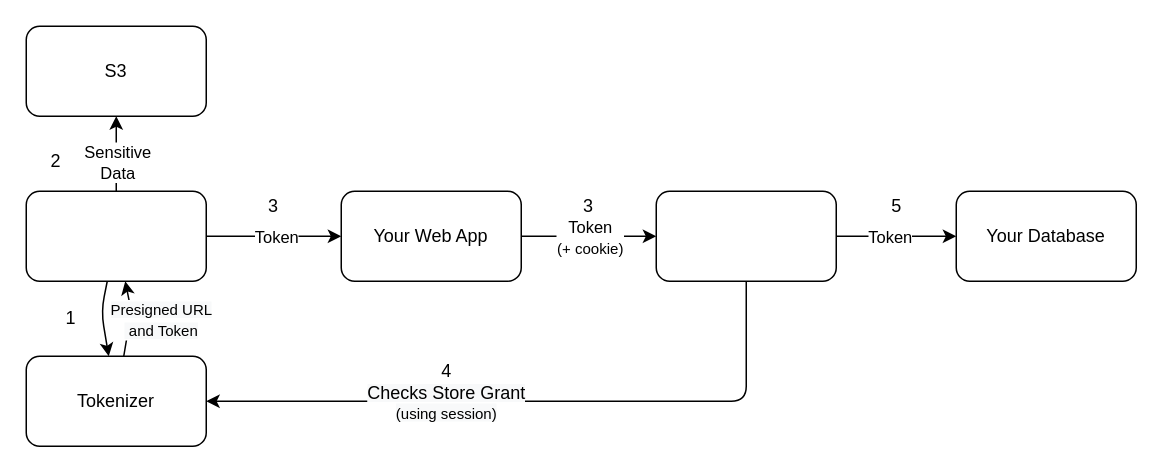
The diagram is 1163 pixels wide and 473 high, and some of its shapes have lost their labels. Each missing label, with the centre of its shape:
Secure Frame: point (115, 235)
Your Server: point (745, 235)
